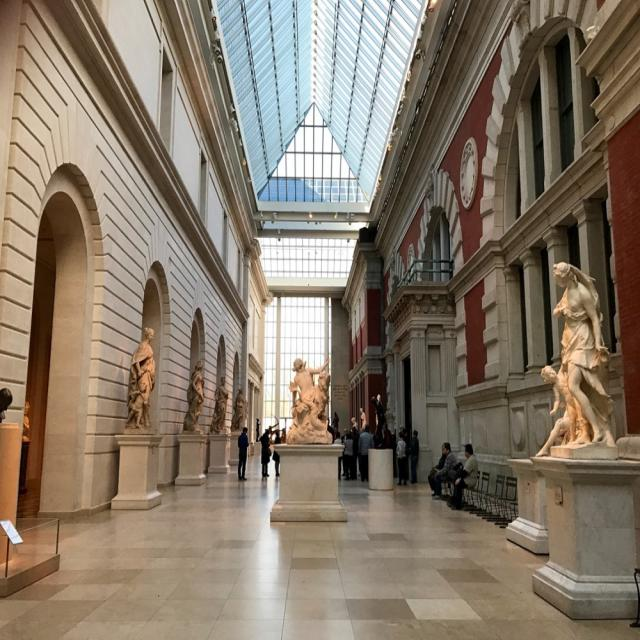body: (534, 258, 622, 457), (288, 356, 340, 445), (123, 326, 157, 432), (0, 380, 31, 459), (450, 442, 480, 510), (182, 358, 205, 436), (348, 394, 387, 438), (432, 441, 458, 498), (209, 374, 229, 434), (357, 422, 375, 483), (428, 443, 448, 497), (346, 424, 361, 481), (236, 426, 250, 482), (395, 430, 408, 486), (259, 428, 272, 478), (230, 386, 244, 431), (409, 428, 420, 485), (279, 427, 291, 477), (342, 434, 354, 482), (272, 428, 282, 477), (402, 428, 411, 482), (340, 427, 349, 478), (333, 431, 342, 481), (389, 428, 398, 472), (264, 420, 280, 444), (372, 423, 384, 449), (384, 423, 393, 449), (327, 417, 335, 445), (255, 416, 261, 444)
